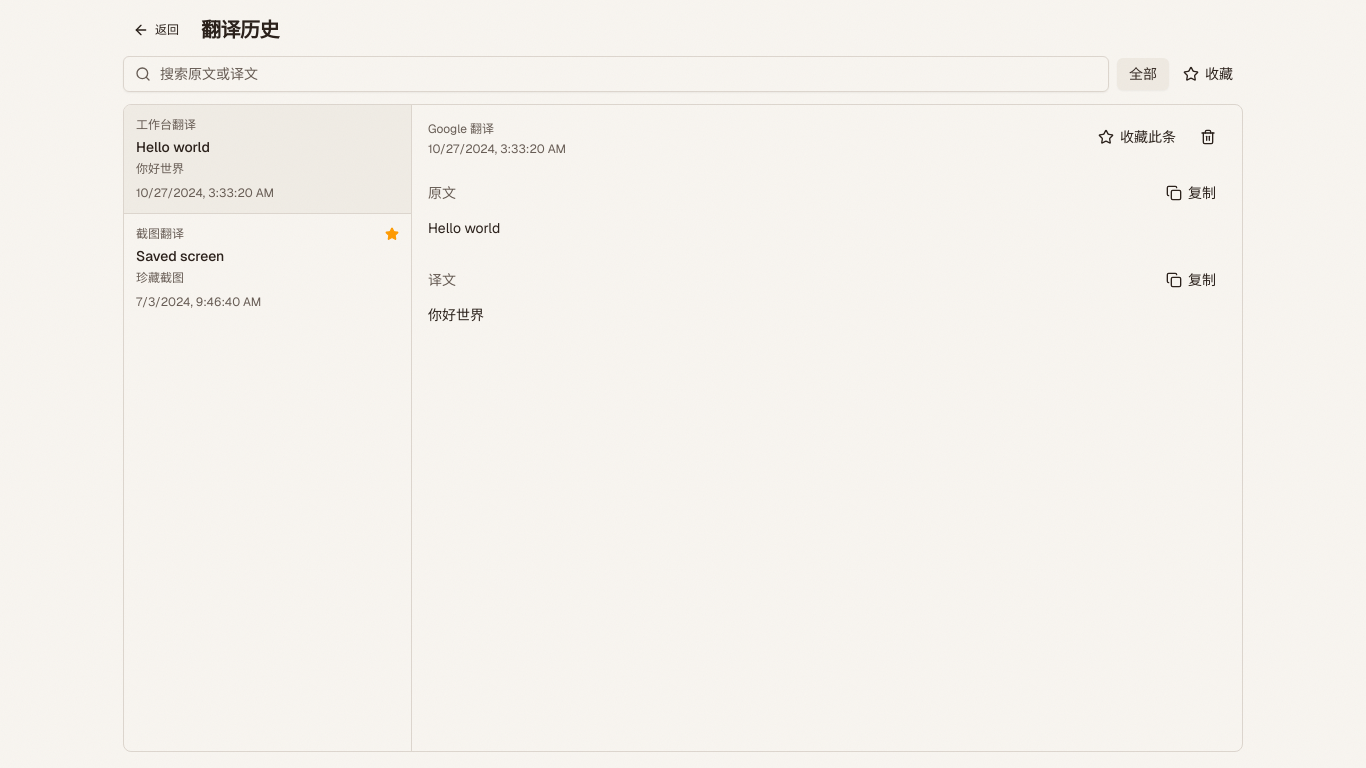
Test: translation history › copies original and translated text separately
Step 1. Click the button with aria-label "复制原文" → point(1191, 193), box [1156, 177, 1226, 209]
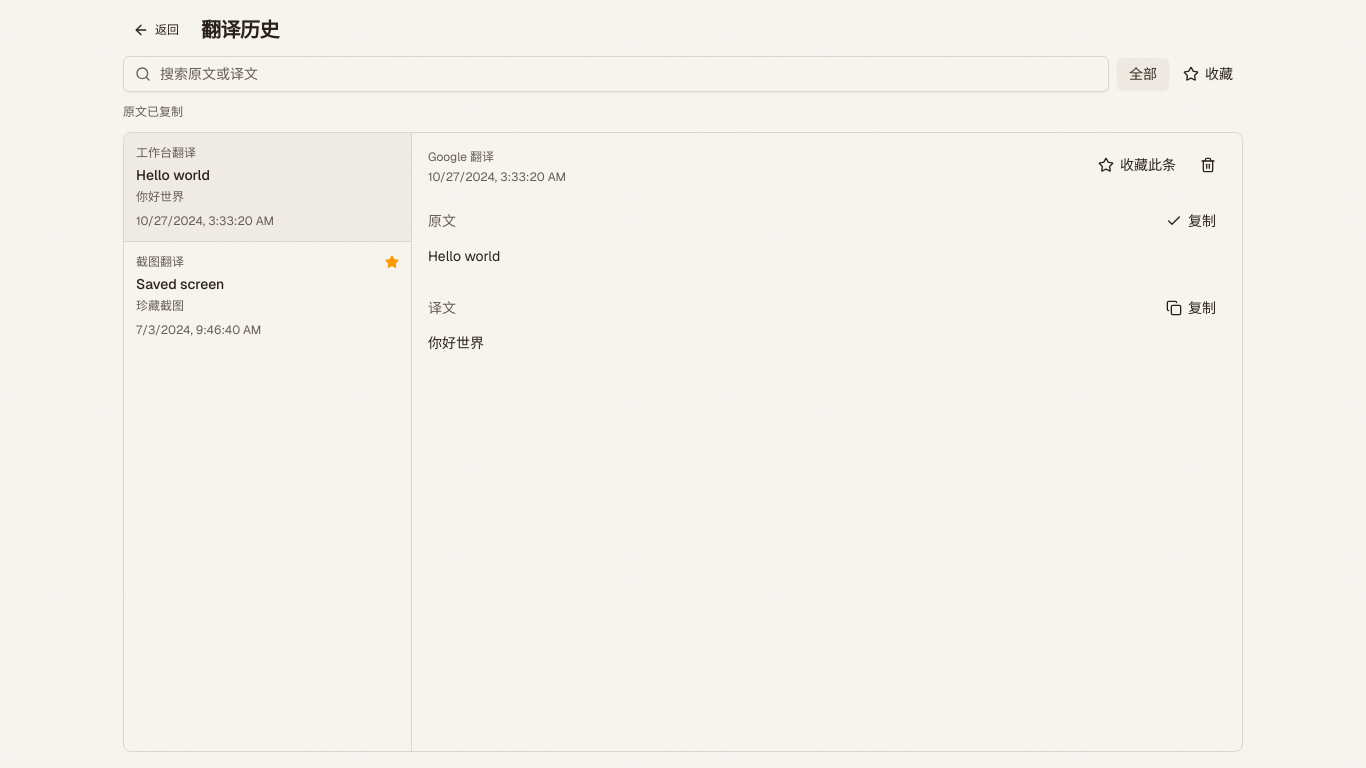
Check: the message reads "原文已复制", box [123, 104, 183, 120]
Step 2. Click the button with aria-label "复制译文" → point(1191, 308), box [1156, 292, 1226, 324]
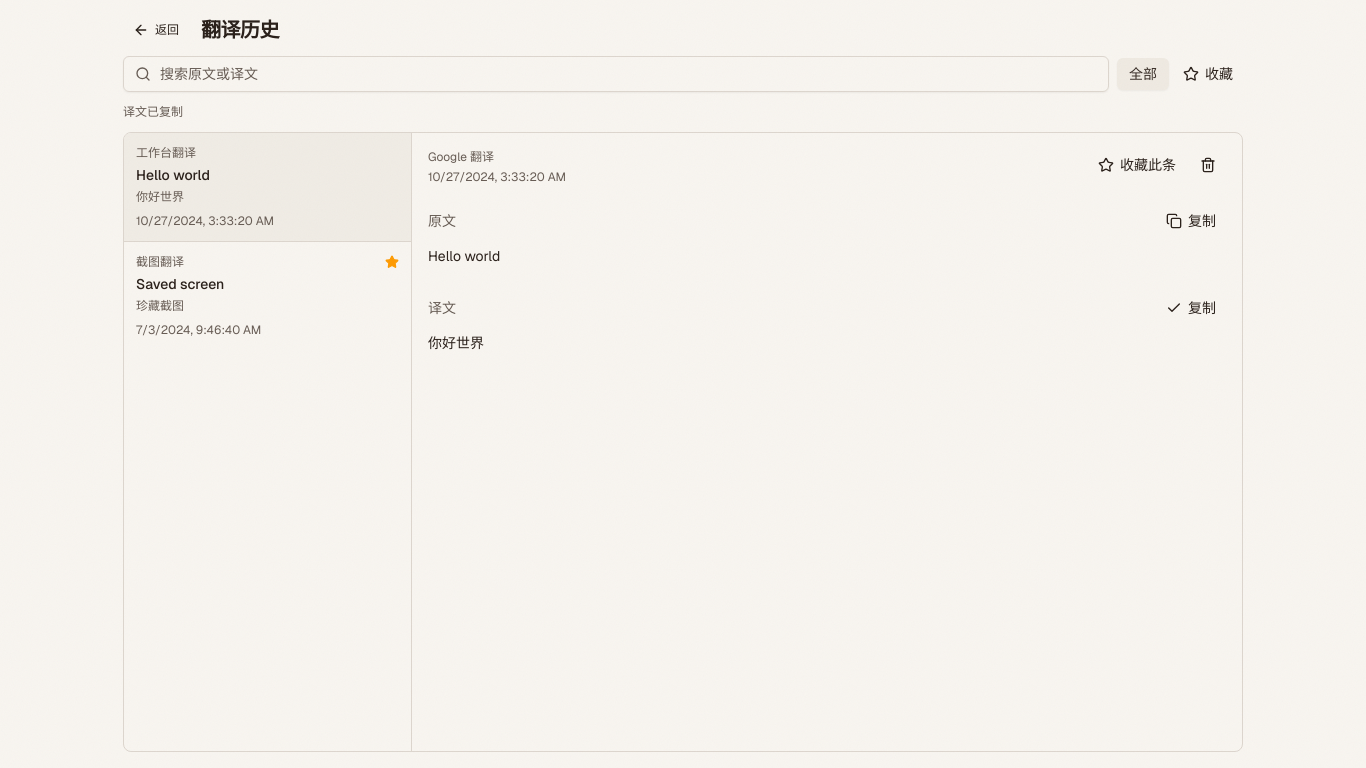
Check: the message reads "译文已复制", box [123, 104, 183, 120]
